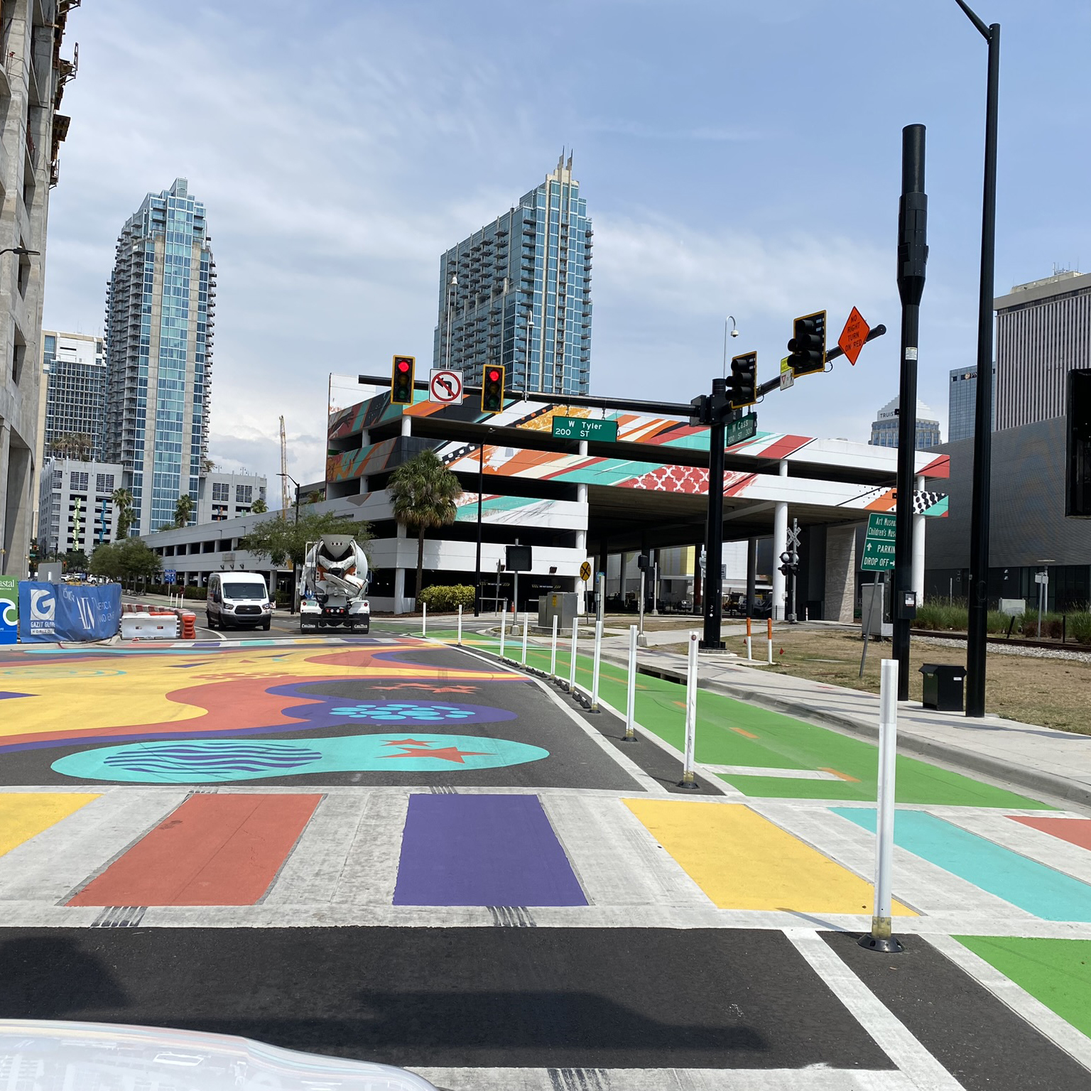Crosswalk: (11, 764, 1091, 959)
